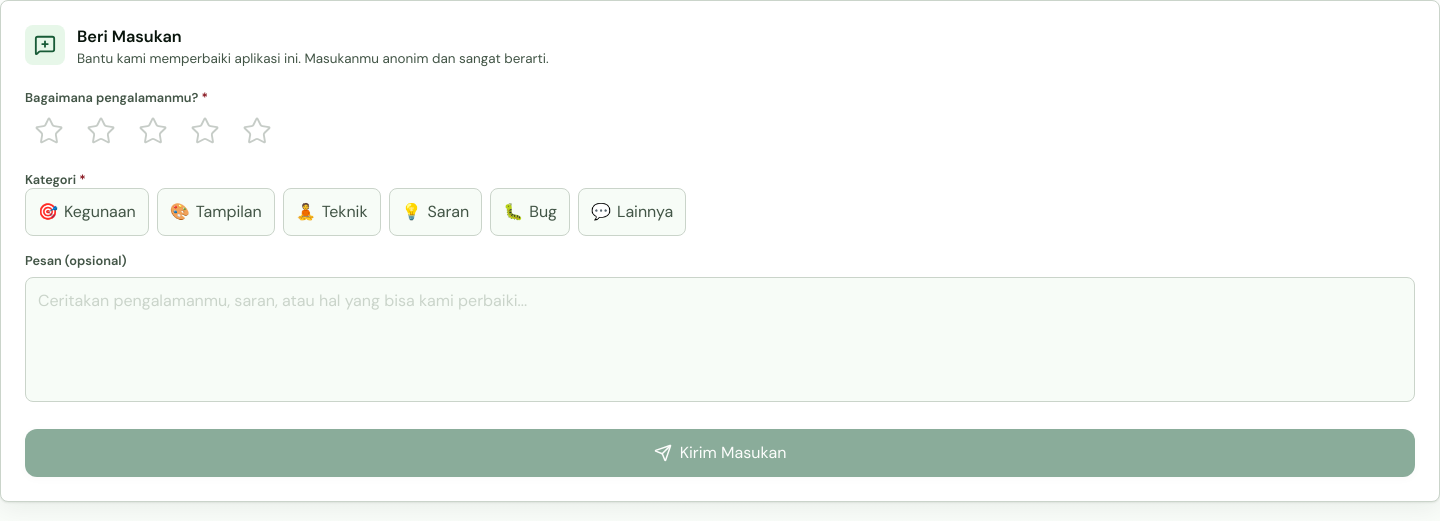
Test: FeedbackForm › keeps submission disabled until both a star rating and a category are chosen
expect the button "Kirim Masukan" is disabled: met, box [25,429,1415,477]
Step 1. Click the button named "4 bintang — Bagus" → (205, 131), box [181,107,229,155]
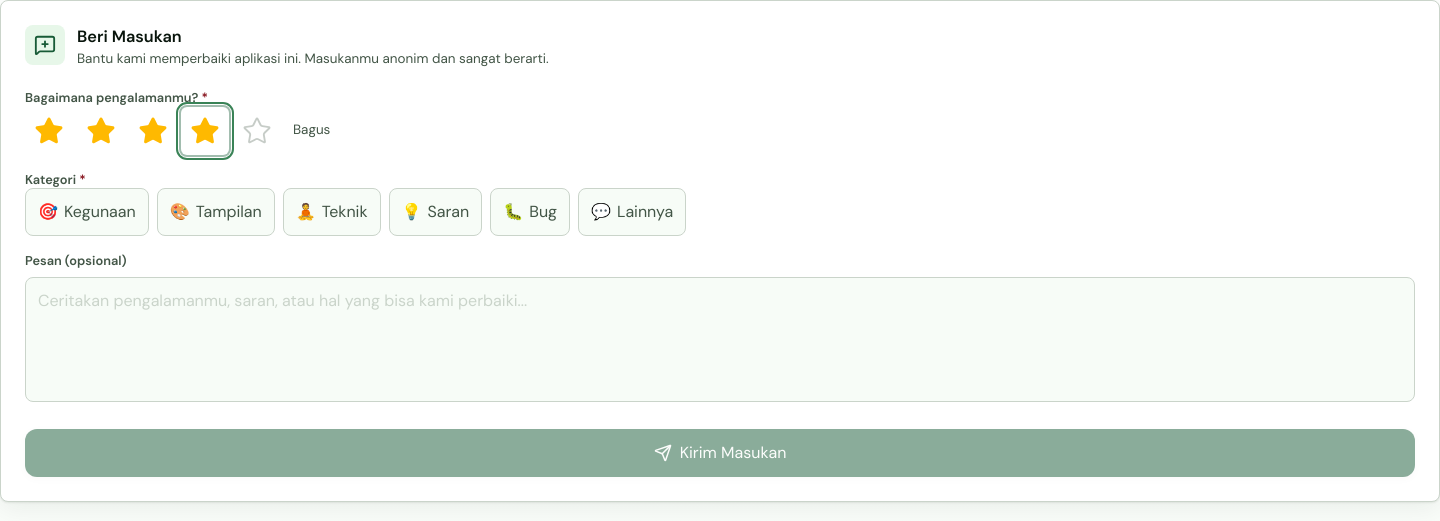
expect the button "Kirim Masukan" is disabled: met, box [25,429,1415,477]
expect the text "Bagus" is shown: met, box [293,120,330,141]
Step 2. Click the button "🎯 Kegunaan" → (87, 212), box [25,188,149,236]
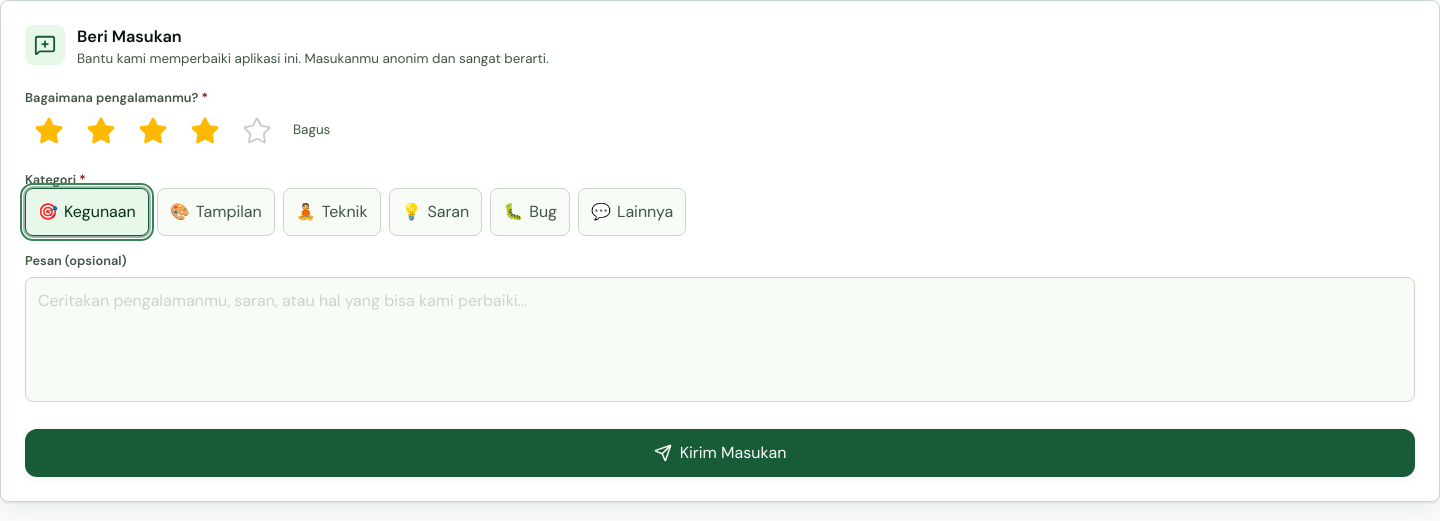
expect the button "Kirim Masukan" is enabled: met, box [25,429,1415,477]
